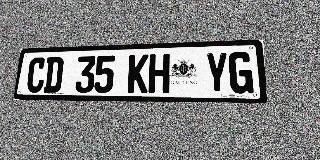3: (75, 56, 96, 93)
5: (94, 55, 115, 93)
C: (26, 57, 47, 93)
D: (43, 57, 64, 93)
G: (228, 51, 254, 94)
H: (148, 54, 170, 93)
K: (127, 54, 149, 93)
Y: (205, 52, 229, 93)
